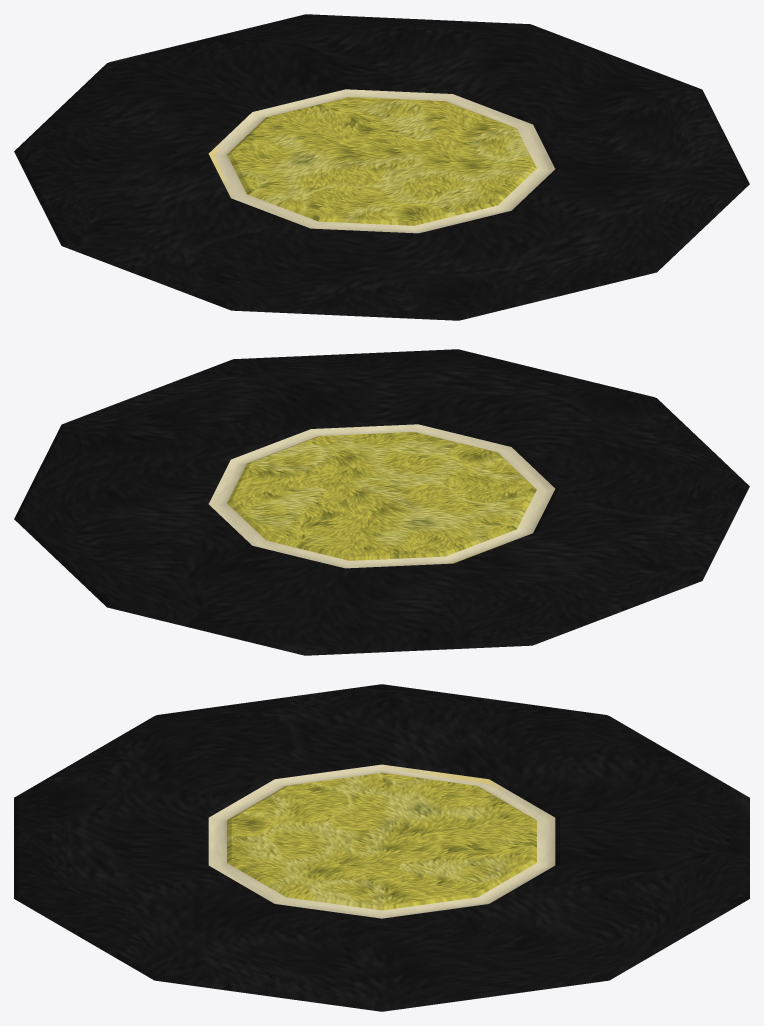
File: Circular_Carpet_04_C.FBX
The picture shows the model from 3 angles, top to bottom: view 1: azimuth 30°, elevation 25°; view 2: azimuth 150°, elevation 25°; view 3: azimuth 270°, elevation 25°; orthographic projection. The views are drawn at different scales.
Visible parts, largest first — view 1: Circular_Carpet; view 2: Circular_Carpet; view 3: Circular_Carpet.
Part boxes in pixels (x1=…): Circular_Carpet: x1=14, y1=14, x2=749, y2=320; Circular_Carpet: x1=14, y1=349, x2=749, y2=655; Circular_Carpet: x1=14, y1=684, x2=749, y2=1011.
Size of the model in its own units: 316 by 4.05 by 300.
